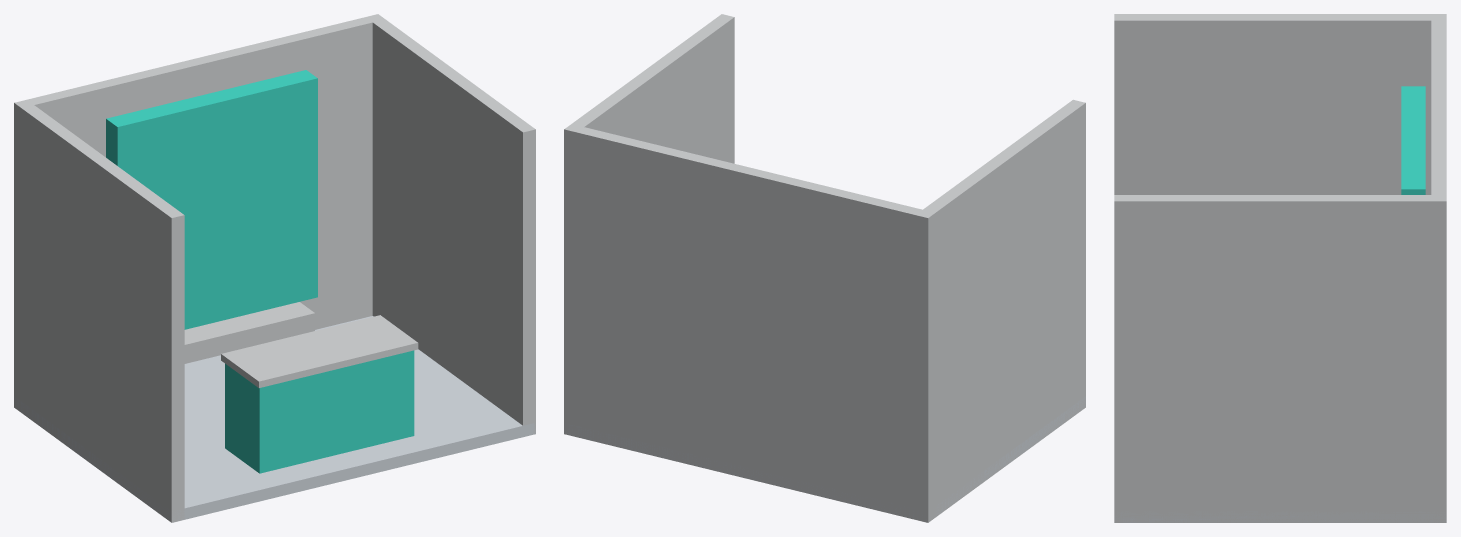
3 renders of one model, left to right at view 1: azimuth 30°, elevation 25°; view 2: azimuth 150°, elevation 25°; view 3: azimuth 270°, elevation 25°, orthographic. The views are drawn at different scales.
Visible parts, largest first — view 1: Exhibition Booth Concept; view 2: Exhibition Booth Concept; view 3: Exhibition Booth Concept.
Boxes of the visible parts, <box> form: Exhibition Booth Concept: <box>14,14,535,522</box>; Exhibition Booth Concept: <box>564,14,1085,522</box>; Exhibition Booth Concept: <box>1114,14,1446,522</box>.
Bounding box in the file's own units: 4 × 3.2 × 3.
